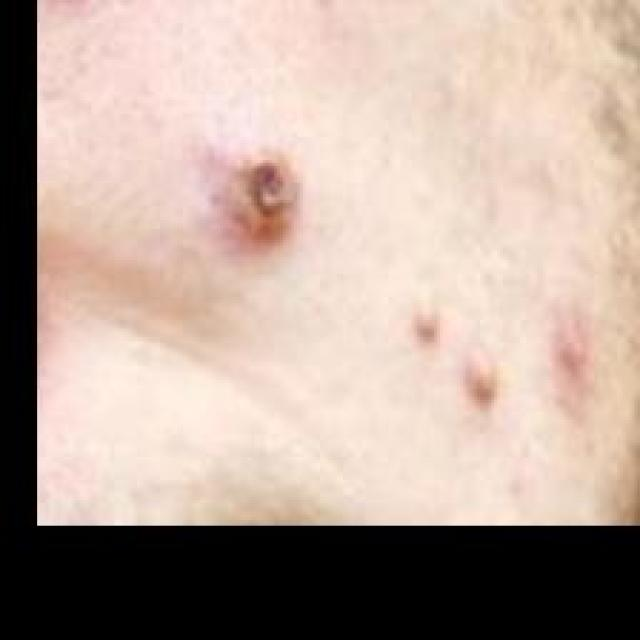monkeypox: (105, 42, 640, 517)
